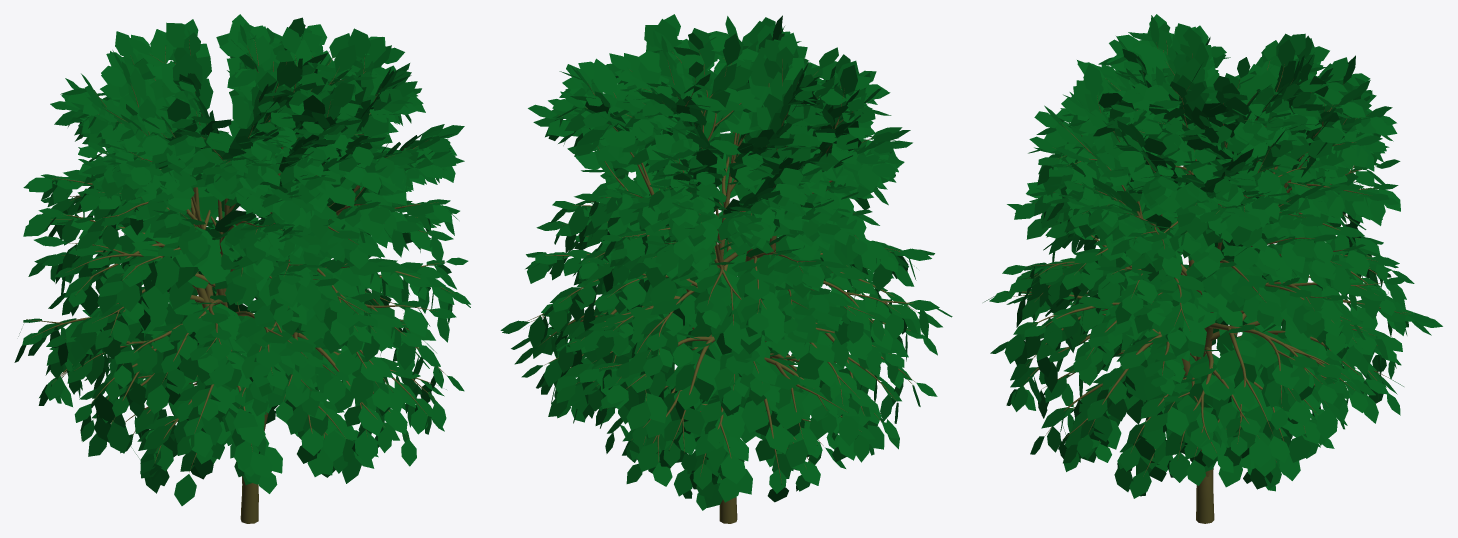
File: green_maple_tree(taller).fbx
3 views of the same model, side by side, from view 1: azimuth 30°, elevation 25°; view 2: azimuth 150°, elevation 25°; view 3: azimuth 270°, elevation 25° (orthographic).
Parts seen in each view (by area): view 1: leaves, tree; view 2: leaves, tree; view 3: leaves, tree.
Part boxes in pixels (left/top/right/bottom): leaves: left=14, top=14, right=470, bottom=505; tree: left=26, top=40, right=453, bottom=523; leaves: left=500, top=14, right=952, bottom=510; tree: left=526, top=49, right=916, bottom=523; leaves: left=983, top=14, right=1442, bottom=498; tree: left=1006, top=40, right=1410, bottom=523.
Size of the model in its own units: 89.05 by 107 by 93.9.
